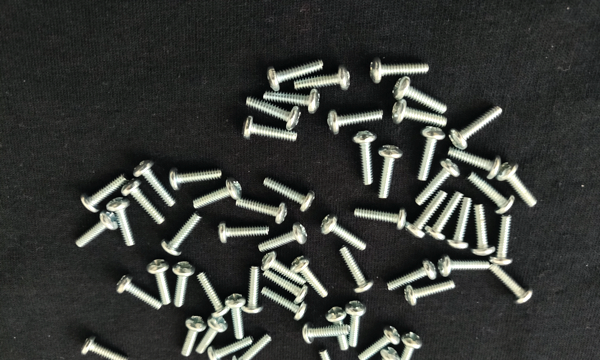shortscrew: (450, 105, 505, 150), (392, 75, 449, 114), (415, 159, 461, 206), (133, 159, 177, 208), (466, 172, 516, 214), (404, 192, 448, 239), (121, 178, 165, 225), (245, 95, 302, 131), (263, 175, 316, 213), (487, 263, 534, 305), (497, 161, 539, 208), (161, 211, 204, 256), (80, 174, 128, 213), (115, 273, 164, 311), (426, 192, 464, 241), (321, 214, 368, 252), (269, 59, 324, 91), (75, 210, 119, 249), (387, 259, 437, 293), (448, 147, 501, 179), (294, 64, 352, 93), (328, 106, 384, 136), (370, 56, 430, 84), (196, 269, 230, 318), (193, 177, 243, 210), (291, 256, 329, 299), (261, 250, 307, 285), (392, 99, 448, 127), (259, 221, 308, 253), (340, 247, 374, 293), (264, 271, 310, 305), (262, 287, 308, 321), (417, 126, 445, 181), (359, 325, 402, 360), (243, 115, 298, 142), (377, 144, 404, 198), (405, 279, 457, 306), (447, 198, 474, 250), (352, 130, 377, 186), (264, 89, 320, 114), (236, 199, 289, 225), (107, 197, 135, 246), (169, 167, 223, 192), (354, 206, 407, 231), (196, 314, 228, 355), (490, 215, 515, 266), (145, 257, 171, 306), (80, 335, 130, 360), (438, 253, 490, 277), (179, 315, 208, 358), (472, 205, 496, 256), (218, 221, 269, 245), (208, 334, 255, 360), (173, 261, 197, 308), (325, 304, 349, 351), (232, 333, 273, 360), (345, 300, 367, 348), (225, 293, 247, 340), (302, 323, 350, 344), (394, 331, 423, 360), (365, 348, 400, 360), (318, 348, 346, 360)
